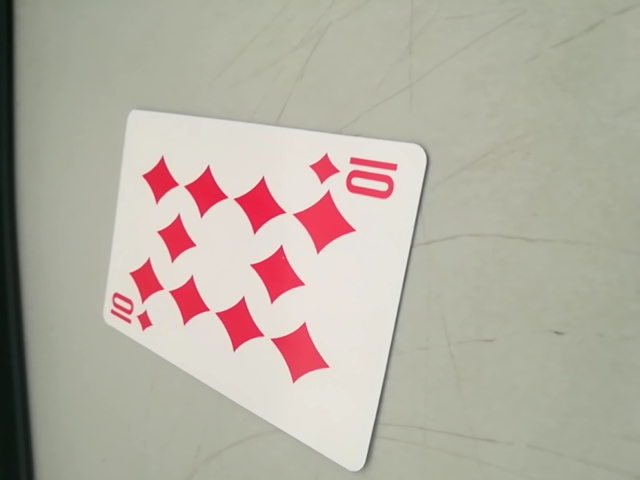fk 10: (307, 149, 408, 199), (106, 289, 163, 338)
